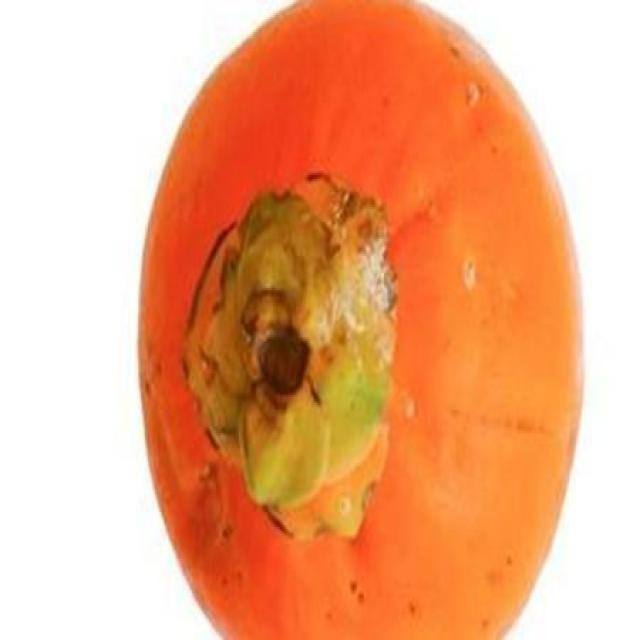good: (135, 0, 586, 638)
